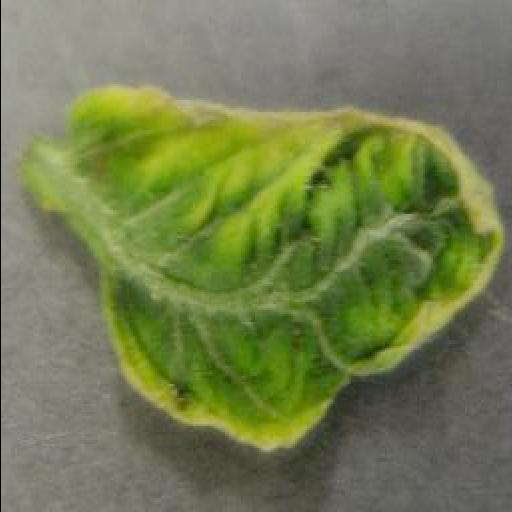disease_tomato: (64, 86, 506, 454)
